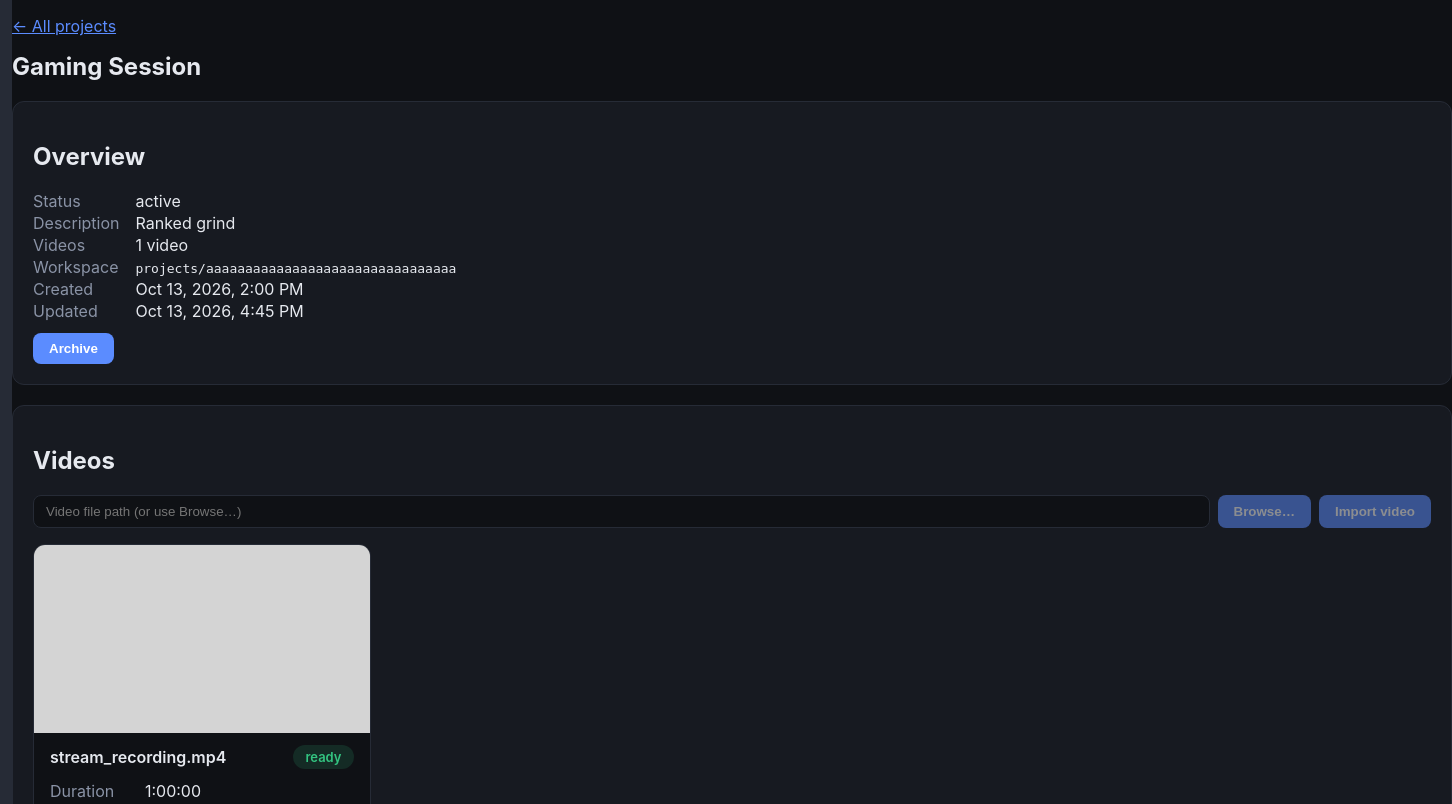
Scenario: ProjectDetail videos section › renders project metadata and archives on demand
The image size is (1452, 804).
Expected: the heading "Gaming Session" is shown, [12,52,201,81]
Expected: the text "Ranked grind" is shown, [136,213,235,233]
Click the button "Archive".
click(73, 348)  # box [33,333,114,364]
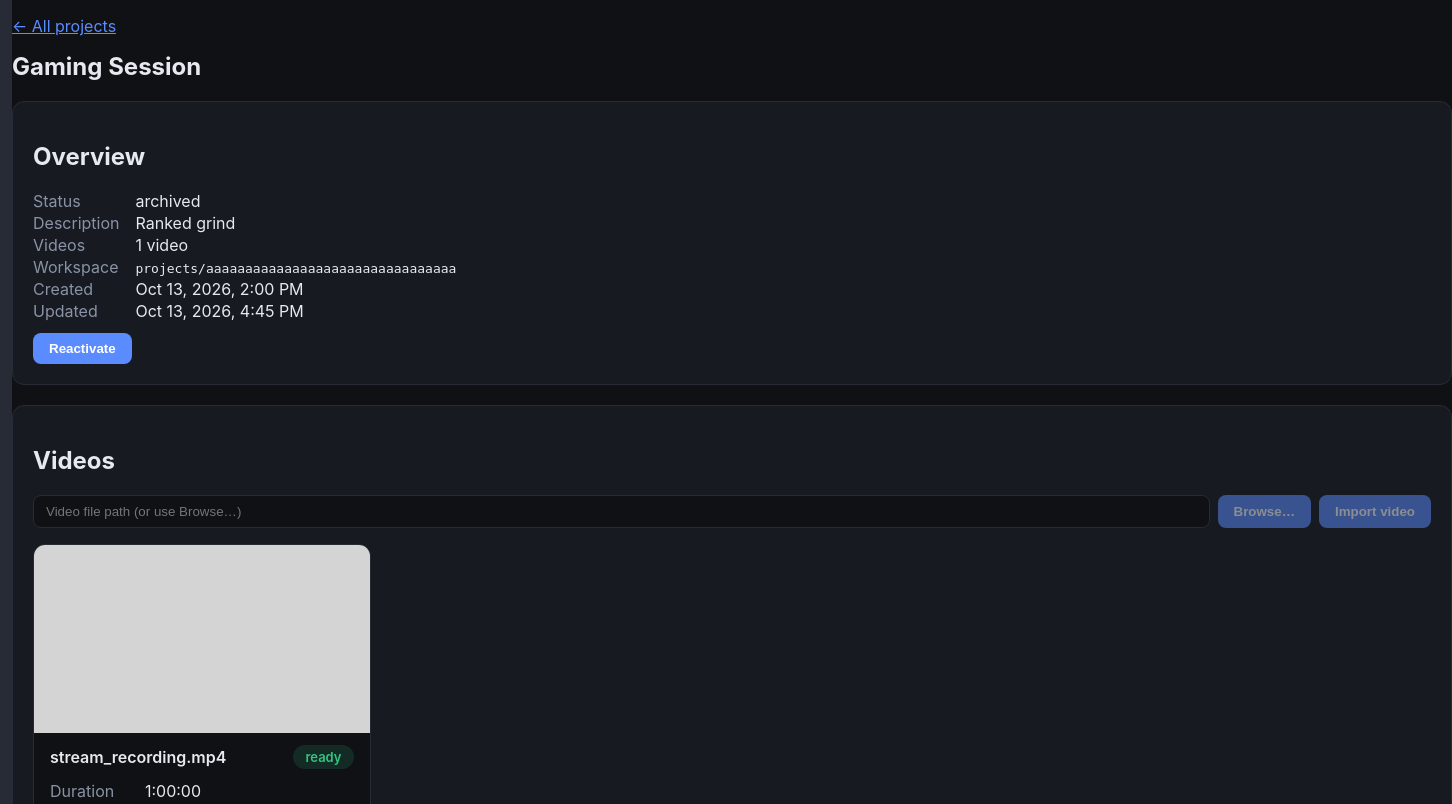
Expected: the text with test id "project-status" reads "archived", [136,191,200,211]
